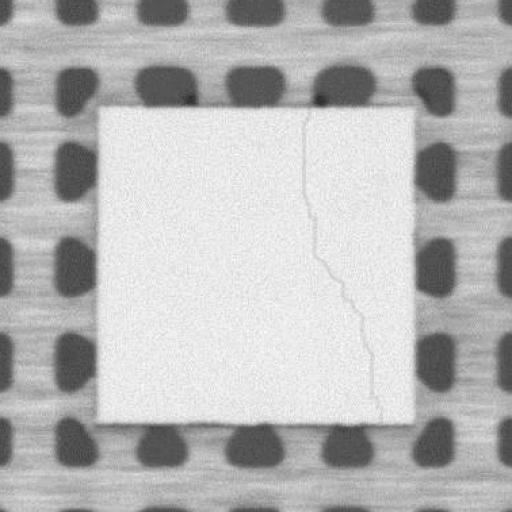DIE_CRACK: (300, 108, 384, 420)
